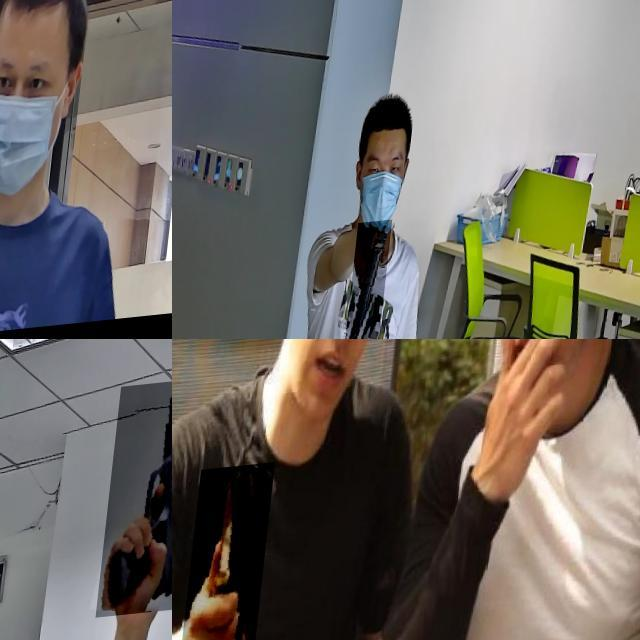-: (192, 465, 283, 640)
gun-knife-thesis - v11 Yolov5 augmented: (105, 383, 172, 623), (0, 0, 49, 135), (354, 227, 399, 339)
